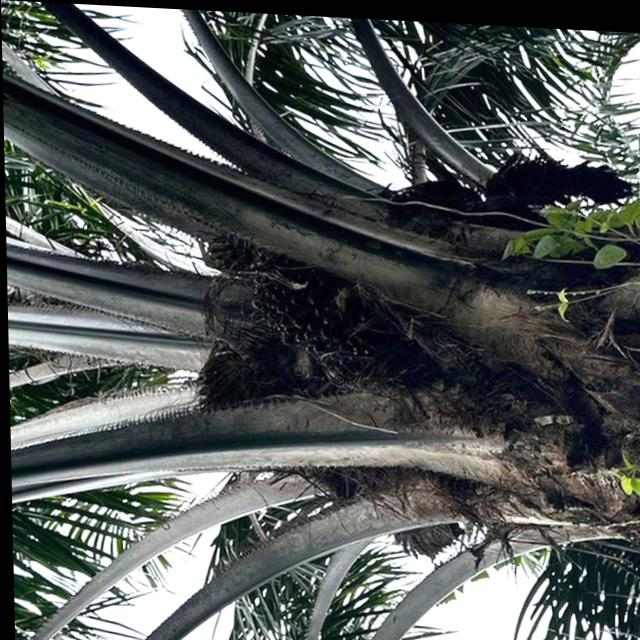almost: (242, 243, 428, 425)
